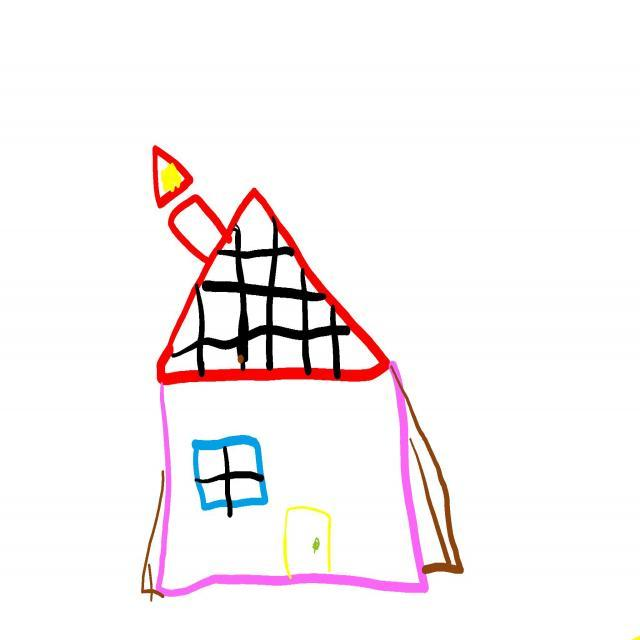chimney: (168, 195, 225, 262)
door: (284, 507, 332, 580)
house: (157, 188, 462, 597)
roof: (155, 185, 391, 385)
wall: (155, 366, 425, 589)
window: (193, 436, 268, 518)
